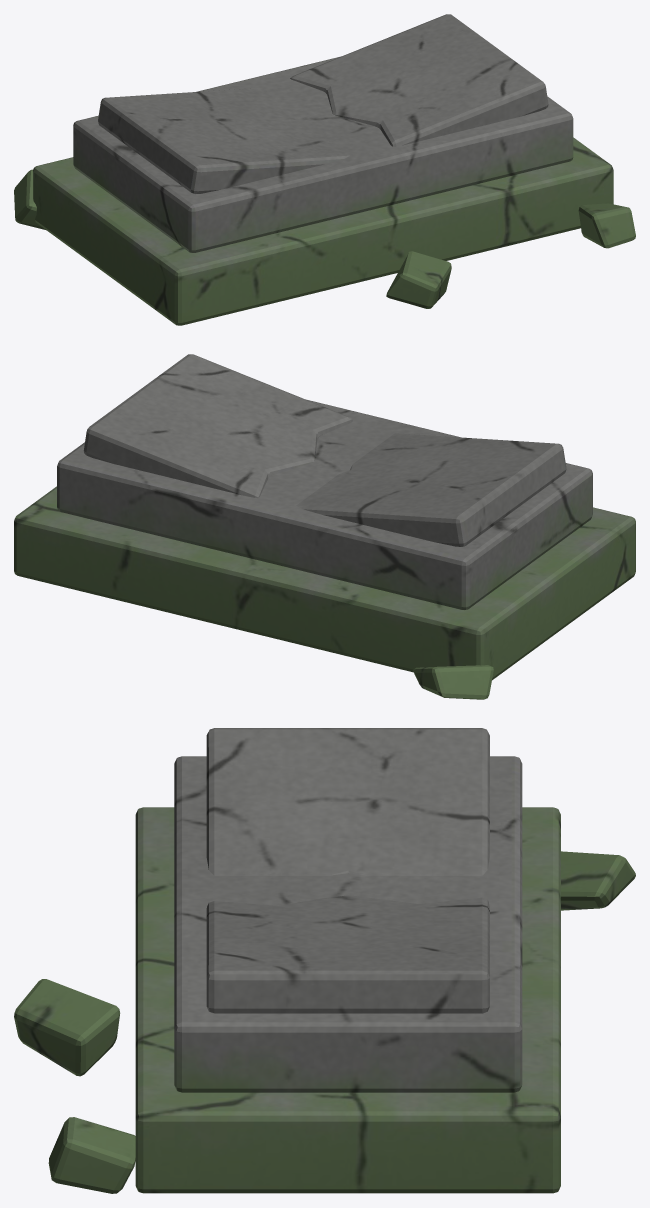
File: gravestone_slab_broken_a.glb
The picture shows the model from 3 angles, top to bottom: view 1: azimuth 30°, elevation 25°; view 2: azimuth 150°, elevation 25°; view 3: azimuth 270°, elevation 25°; orthographic projection. The views are drawn at different scales.
Visible parts, largest first — view 1: gravestone_slab_broken_a; view 2: gravestone_slab_broken_a; view 3: gravestone_slab_broken_a.
Boxes of the visible parts, bbox=[...] form: gravestone_slab_broken_a: bbox=[14, 14, 635, 325]; gravestone_slab_broken_a: bbox=[14, 354, 635, 699]; gravestone_slab_broken_a: bbox=[14, 728, 635, 1193].
Size of the model in its own units: 1.17 by 0.3547 by 0.9655.
Materials: 1 (1 with a texture image).
